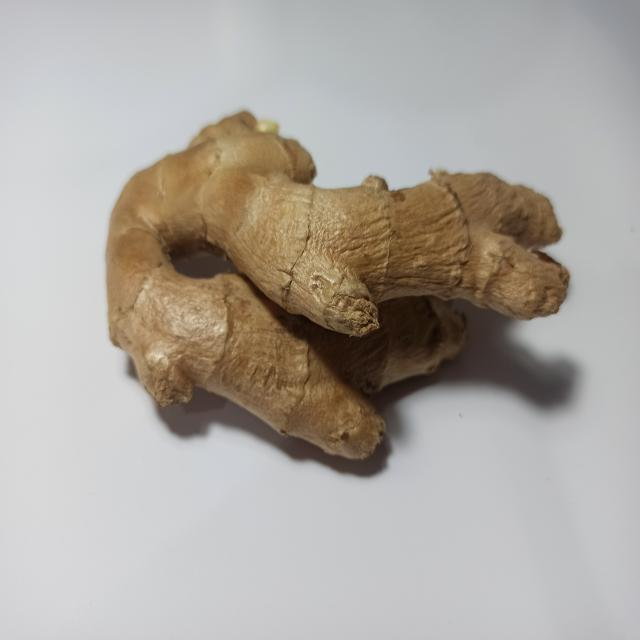ginger: (112, 110, 570, 460)
